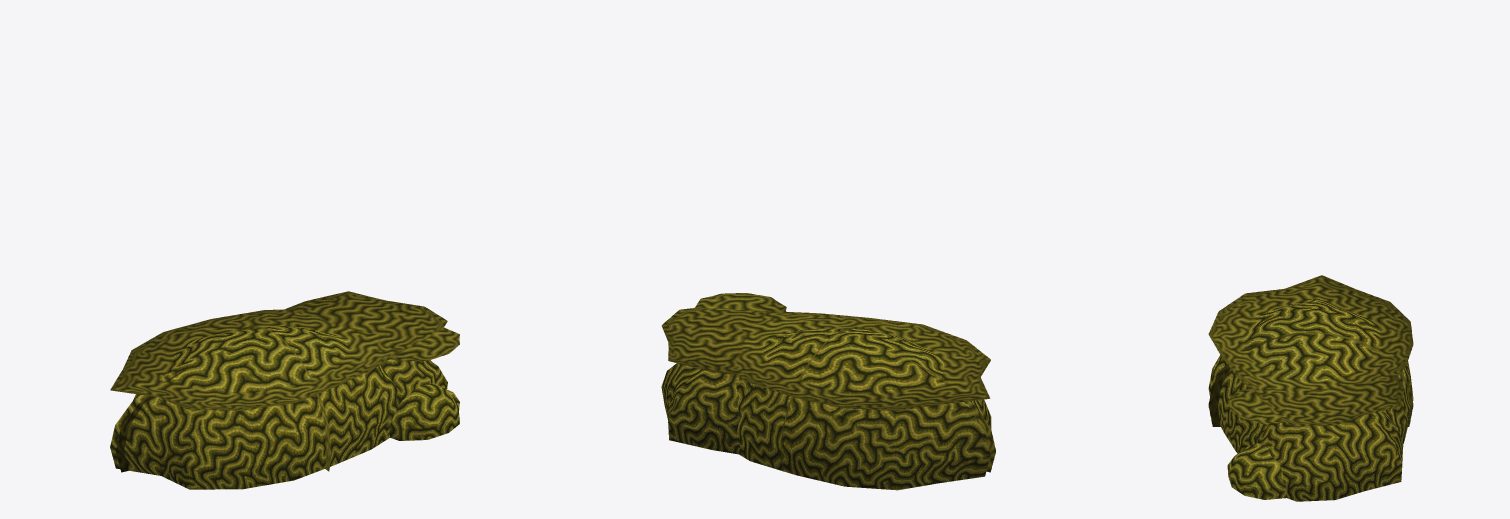
The model's file is Coral-05-Cerebro-Oliva.glb.
3 renders of one model, left to right at view 1: azimuth 30°, elevation 25°; view 2: azimuth 150°, elevation 25°; view 3: azimuth 270°, elevation 25°, orthographic. The views are drawn at different scales.
Parts seen in each view (by area): view 1: Colonia, Coral-05-Cerebro-Oliva impostor; view 2: Colonia, Coral-05-Cerebro-Oliva impostor; view 3: Colonia, Coral-05-Cerebro-Oliva impostor.
Part boxes in pixels (<box>): Colonia: <box>110,326,459,489</box>; Coral-05-Cerebro-Oliva impostor: <box>110,291,459,472</box>; Colonia: <box>661,328,991,490</box>; Coral-05-Cerebro-Oliva impostor: <box>661,293,995,472</box>; Colonia: <box>1208,297,1413,501</box>; Coral-05-Cerebro-Oliva impostor: <box>1208,275,1413,426</box>.
Size of what is drawn, in the model's own units: 1.62 by 1.62 by 1.62.
Materials: 2 (2 with a texture image).
